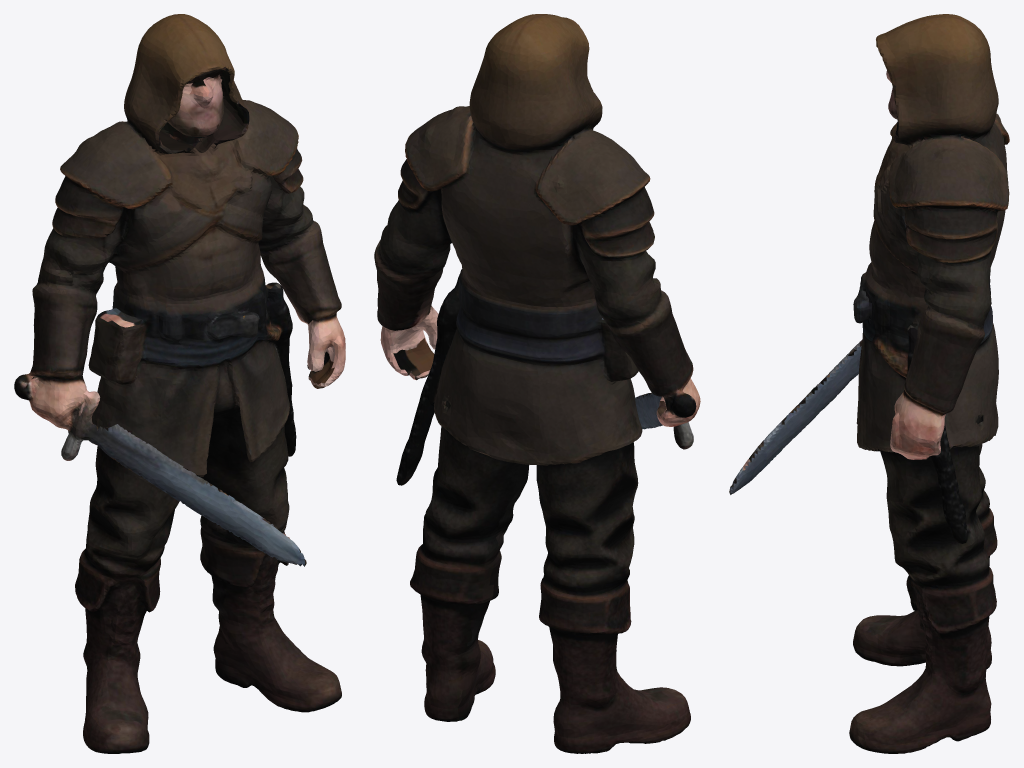
File: boss-01.glb
3 views of the same model, side by side, from view 1: azimuth 30°, elevation 25°; view 2: azimuth 150°, elevation 25°; view 3: azimuth 270°, elevation 25° (orthographic). The views are drawn at different scales.
Parts seen in each view (by area): view 1: tmpg97depl7.ply; view 2: tmpg97depl7.ply; view 3: tmpg97depl7.ply.
Part boxes in pixels (x1,y1,x2,y2): tmpg97depl7.ply: (14, 14, 345, 753); tmpg97depl7.ply: (374, 14, 700, 753); tmpg97depl7.ply: (729, 14, 1009, 753).
Size of the model in its own units: 0.9391 by 1.96 by 0.7323.
Materials: 1 (1 with a texture image).
